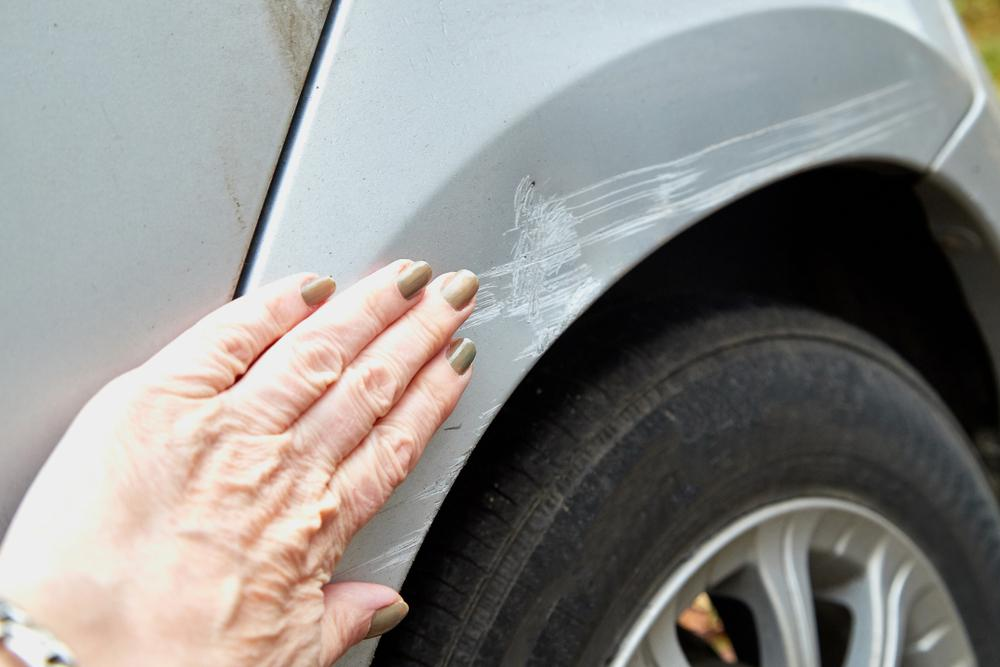scratch: (368, 77, 931, 574)
